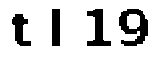1: (80, 6, 112, 49)
9: (117, 5, 150, 49)
l: (46, 5, 70, 48)
t: (8, 11, 34, 51)
